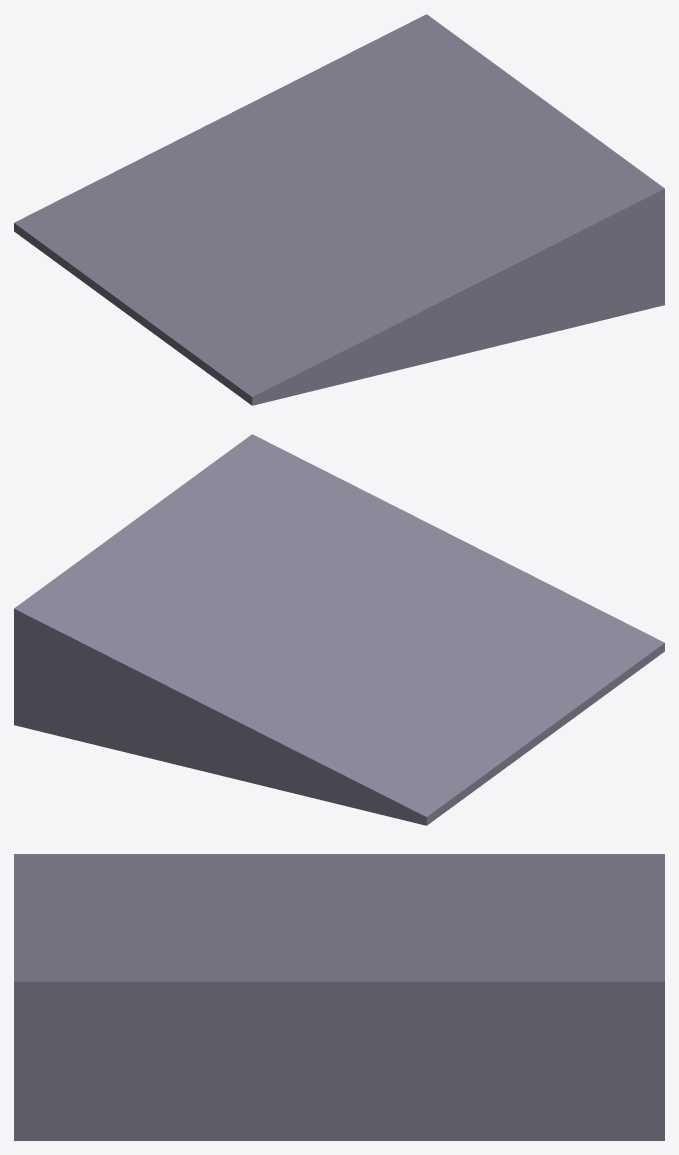
File: rampe_2.glb
3 views of the same model, one above another, from view 1: azimuth 30°, elevation 25°; view 2: azimuth 150°, elevation 25°; view 3: azimuth 270°, elevation 25° (orthographic). The views are drawn at different scales.
Parts seen in each view (by area): view 1: node_id52; view 2: node_id52; view 3: node_id52.
Part boxes in pixels (x1,y1,x2,y2): node_id52: (14,14,664,405); node_id52: (14,434,664,825); node_id52: (14,854,664,1140).
Bounding box in the file's own units: 0.0515 × 0.0139 × 0.0515.
1 material, 1 textured.
